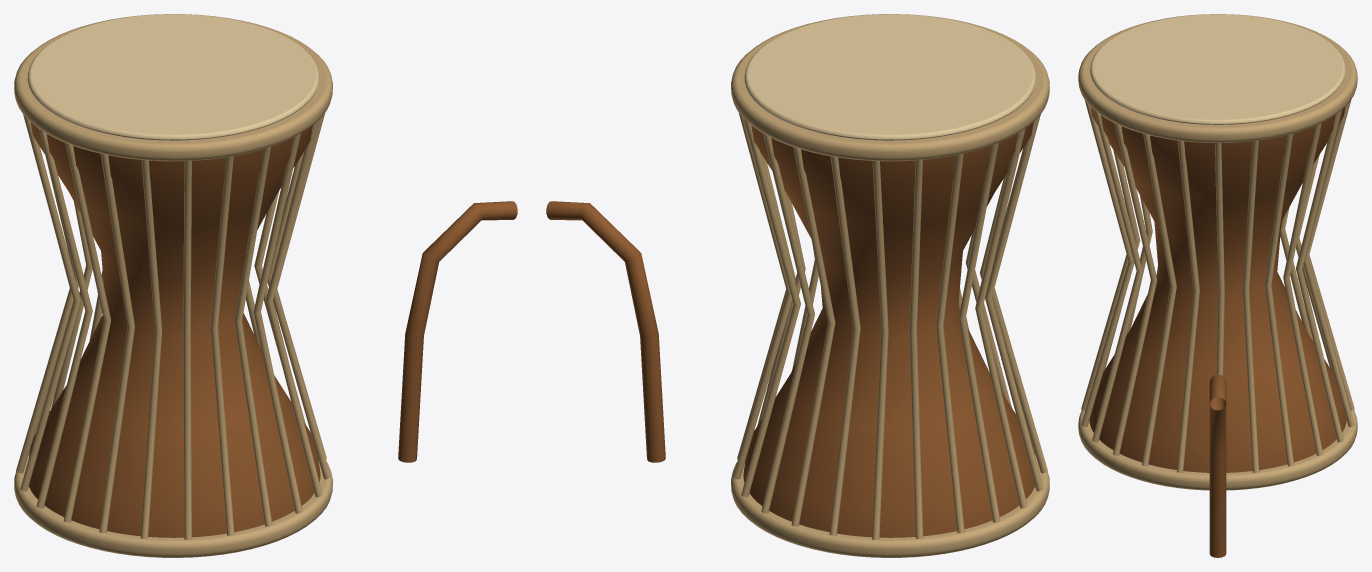
File: gangan-drum.fbx
3 renders of one model, left to right at view 1: azimuth 30°, elevation 25°; view 2: azimuth 150°, elevation 25°; view 3: azimuth 270°, elevation 25°, orthographic. The views are drawn at different scales.
Parts seen in each view (by area): view 1: Gangan body study, Membrane.001, Tension hoop.001, Tension hoop, Curved beater, Tension thong.013, Tension thong.015, Tension thong.017, Tension thong.012, Tension thong.011, Tension thong.018, Tension thong.016 (+8 smaller); view 2: Gangan body study, Membrane.001, Tension hoop.001, Tension hoop, Curved beater, Tension thong.006, Tension thong.004, Tension thong.009, Tension thong.008, Tension thong.011, Tension thong.005, Tension thong.007 (+8 smaller); view 3: Gangan body study, Membrane.001, Tension hoop.001, Tension hoop, Curved beater, Tension thong.002, Tension thong.020, Tension thong.019, Tension thong.004, Tension thong.021, Tension thong.003, Tension thong.001 (+10 smaller).
Boxes of the visible parts, x1,y1,x2,y2 form: Gangan body study: [28, 122, 320, 537]; Membrane.001: [27, 14, 319, 140]; Tension hoop.001: [14, 14, 332, 161]; Tension hoop: [14, 455, 332, 557]; Curved beater: [398, 201, 517, 462]; Tension thong.013: [99, 153, 134, 533]; Tension thong.015: [183, 161, 191, 539]; Tension thong.017: [234, 147, 272, 526]; Tension thong.012: [63, 143, 110, 522]; Tension thong.011: [36, 128, 92, 508]; Tension thong.018: [253, 133, 302, 513]; Tension thong.016: [210, 156, 234, 535]; Gangan body study: [743, 122, 1035, 537]; Membrane.001: [744, 14, 1036, 140]; Tension hoop.001: [731, 14, 1049, 161]; Tension hoop: [731, 455, 1049, 557]; Curved beater: [546, 201, 665, 462]; Tension thong.006: [829, 156, 860, 535]; Tension thong.004: [761, 133, 814, 513]; Tension thong.009: [936, 153, 964, 533]; Tension thong.008: [909, 160, 923, 538]; Tension thong.011: [975, 128, 1027, 508]; Tension thong.005: [791, 147, 835, 526]; Tension thong.007: [872, 161, 888, 539]; Gangan body study: [1089, 107, 1346, 472]; Membrane.001: [1090, 14, 1345, 124]; Tension hoop.001: [1078, 14, 1357, 142]; Tension hoop: [1078, 410, 1357, 490]; Curved beater: [1209, 374, 1226, 557]; Tension thong.002: [1265, 133, 1293, 466]; Tension thong.020: [1142, 133, 1176, 466]; Tension thong.019: [1113, 123, 1157, 455]; Tension thong.004: [1295, 110, 1343, 442]; Tension thong.021: [1176, 140, 1199, 472]; Tension thong.003: [1283, 123, 1322, 455]; Tension thong.001: [1242, 140, 1259, 472].
Size of the model in its own units: 205 by 181 by 118.
